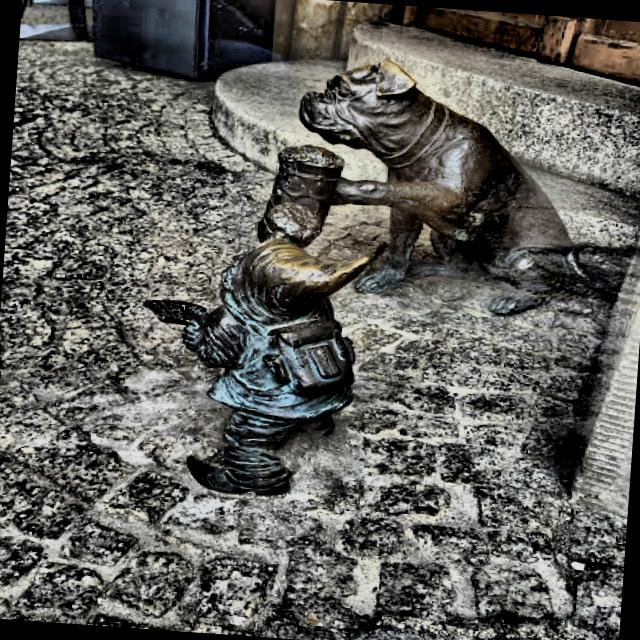Piwozlopek_ i_Piesel_Piwosz: (146, 59, 585, 494)
